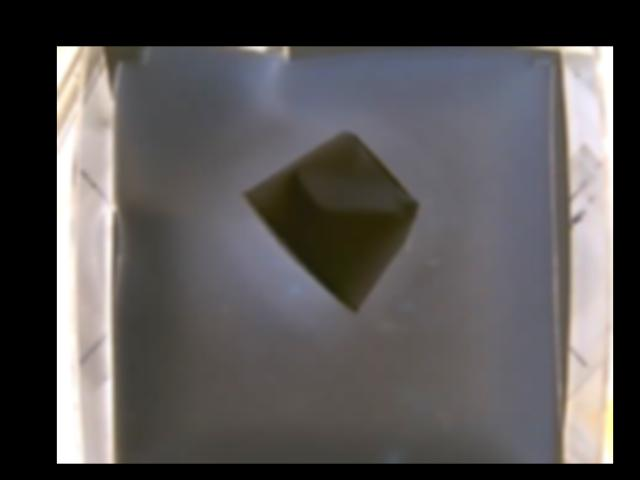Cup: (241, 129, 417, 314)
